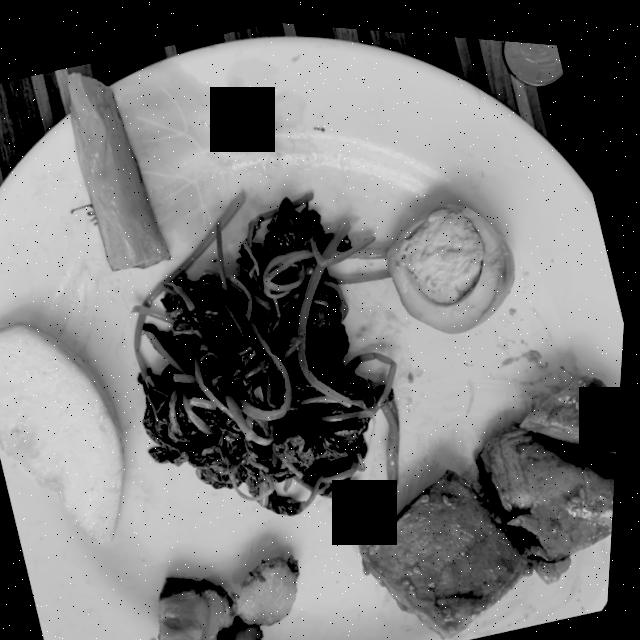coin: (503, 32, 564, 77)
creamy tofu: (366, 365, 624, 630)
grilled pork: (166, 549, 306, 640)
guava -sliced-: (0, 323, 130, 542)
pumpkin: (68, 71, 173, 267)
soy egg: (389, 196, 516, 325)
sweet potato leaves: (136, 186, 405, 510)
